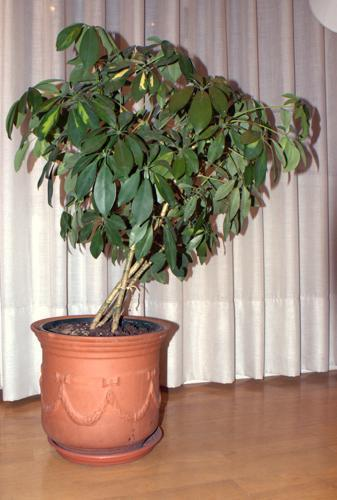Matera: (2, 7, 317, 473)
